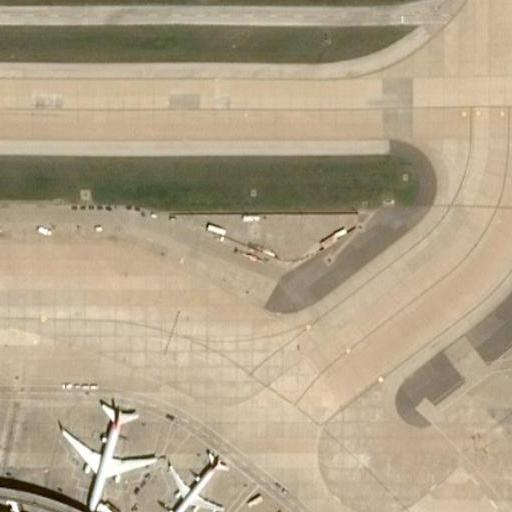Aircraft: (59, 388, 158, 502), (152, 450, 241, 512)
